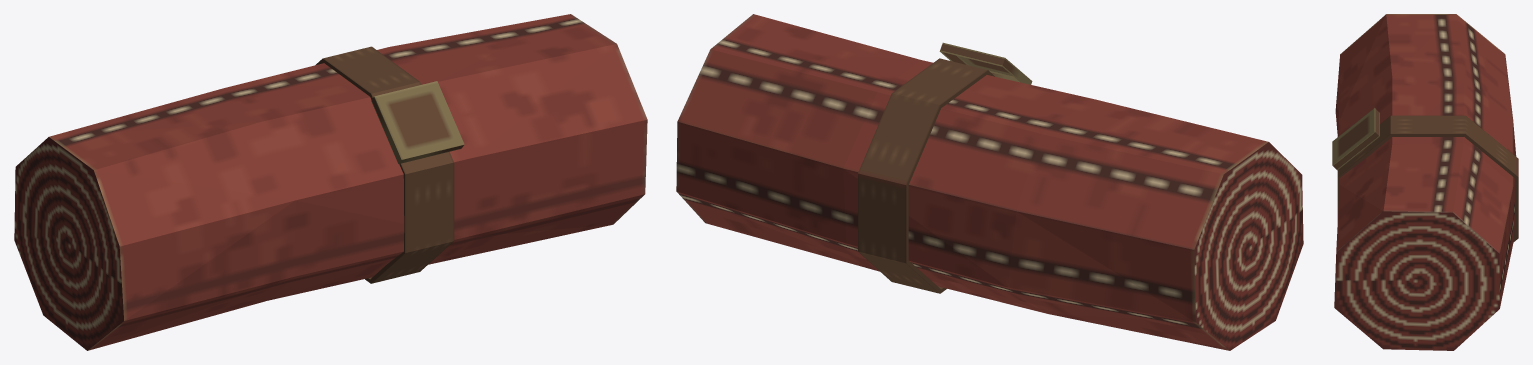
File: SM_CV_Bedroll.fbx
3 renders of one model, left to right at view 1: azimuth 30°, elevation 25°; view 2: azimuth 150°, elevation 25°; view 3: azimuth 270°, elevation 25°, orthographic. The views are drawn at different scales.
Parts seen in each view (by area): view 1: CV_Bedroll_Roll, CV_Bedroll_Strap, CV_Bedroll_Buckle; view 2: CV_Bedroll_Roll, CV_Bedroll_Strap, CV_Bedroll_Buckle; view 3: CV_Bedroll_Roll, CV_Bedroll_Strap, CV_Bedroll_Buckle.
Boxes of the visible parts, x1,y1,x2,y2 form: CV_Bedroll_Roll: (14, 14, 647, 350); CV_Bedroll_Strap: (315, 46, 454, 283); CV_Bedroll_Buckle: (371, 81, 464, 163); CV_Bedroll_Roll: (676, 14, 1303, 350); CV_Bedroll_Strap: (858, 58, 994, 293); CV_Bedroll_Buckle: (939, 42, 1032, 84); CV_Bedroll_Roll: (1334, 14, 1516, 350); CV_Bedroll_Strap: (1337, 115, 1518, 242); CV_Bedroll_Buckle: (1332, 108, 1379, 170).
Size of the model in its own units: 0.7588 by 0.2684 by 0.2968.
